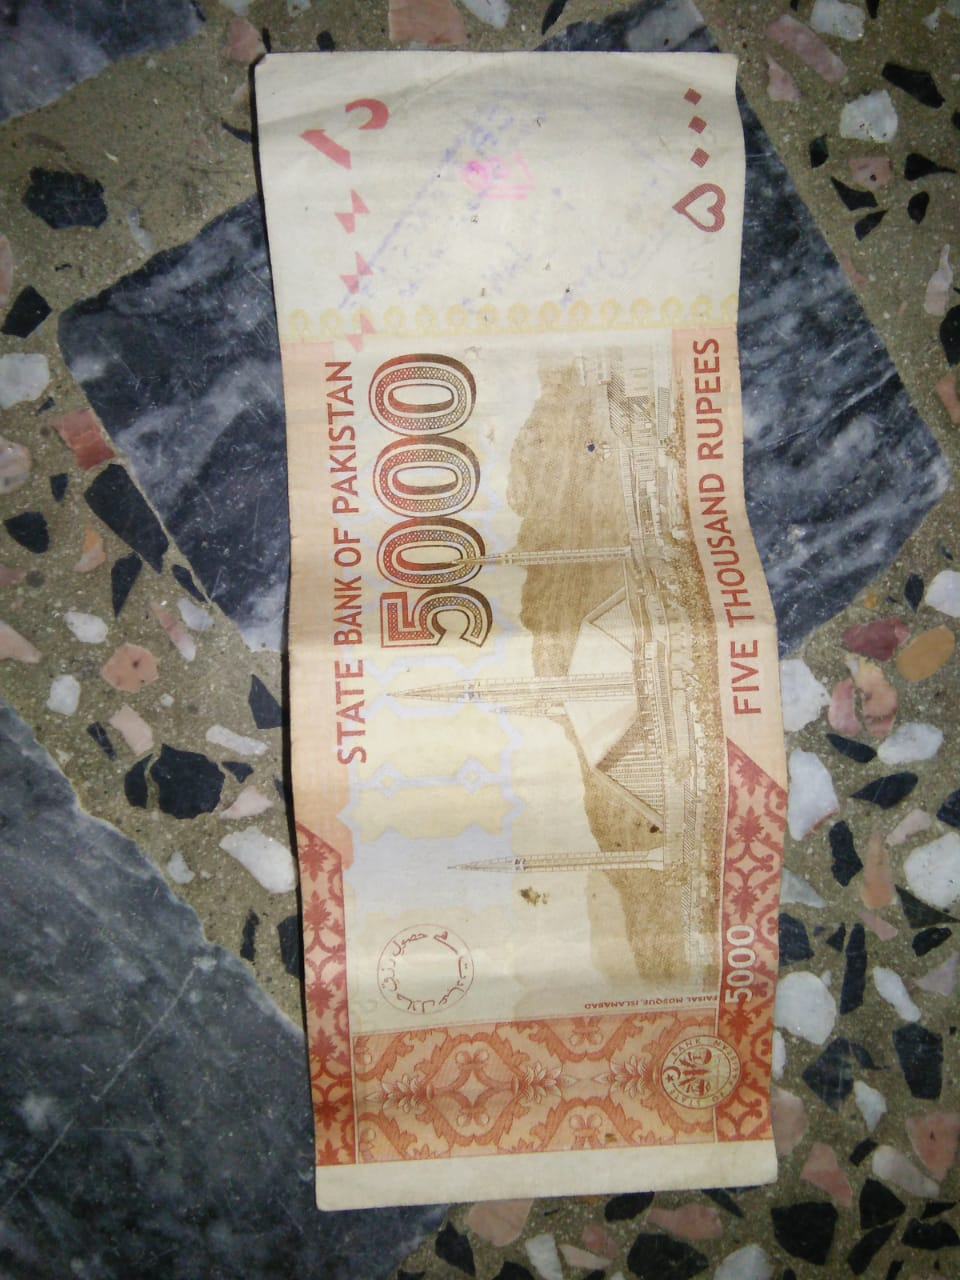5000 rupee: (205, 57, 853, 1242)
